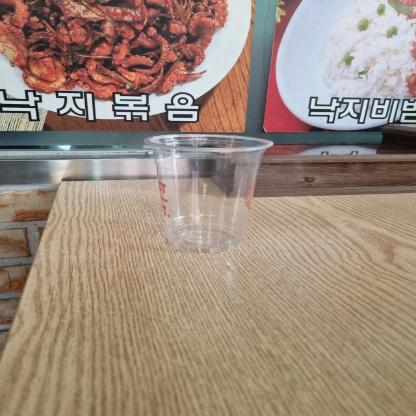Plastic Cup: (140, 130, 276, 256)
